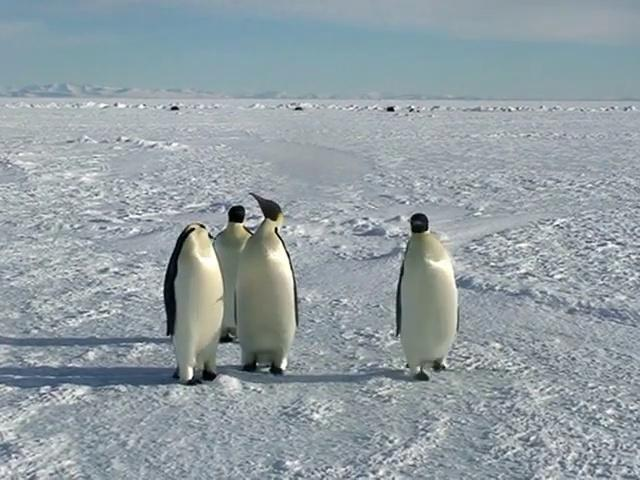animal: (396, 213, 458, 379)
